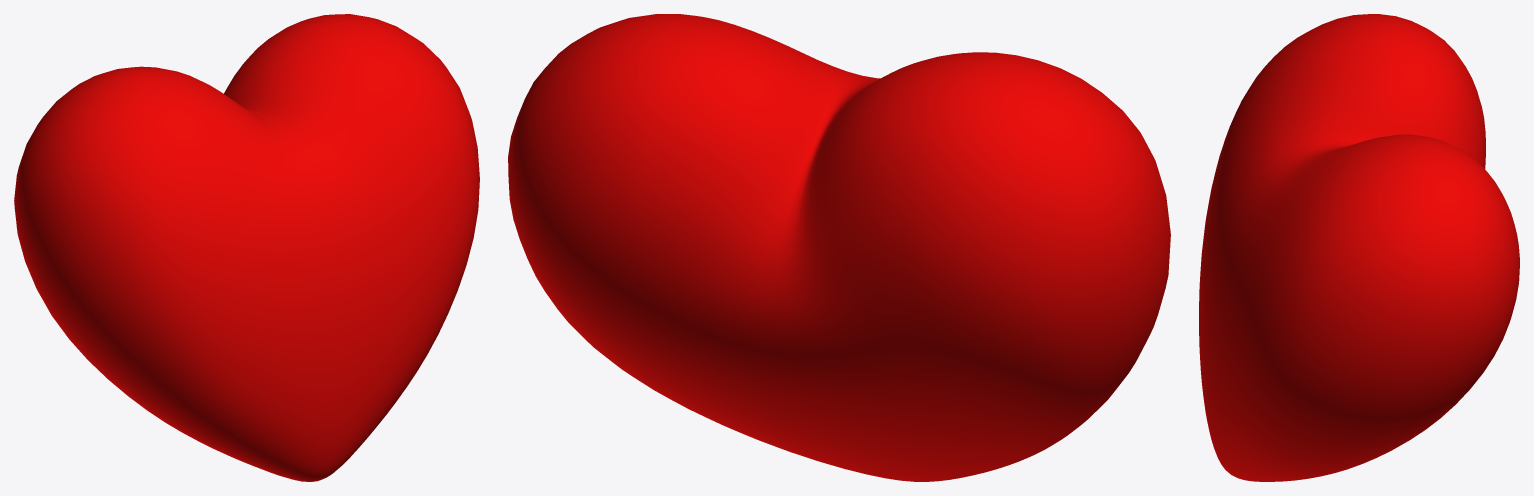
File: asset.glb
The picture shows the model from 3 angles, left to right: view 1: azimuth 30°, elevation 25°; view 2: azimuth 150°, elevation 25°; view 3: azimuth 270°, elevation 25°; orthographic projection. The views are drawn at different scales.
Visible parts, largest first — view 1: node_id10; view 2: node_id10; view 3: node_id10.
Boxes of the visible parts, <box> form: node_id10: <box>14,14,479,481</box>; node_id10: <box>508,14,1170,481</box>; node_id10: <box>1199,14,1519,481</box>.
Bounding box in the file's own units: 0.8301 × 0.6816 × 0.5058.
